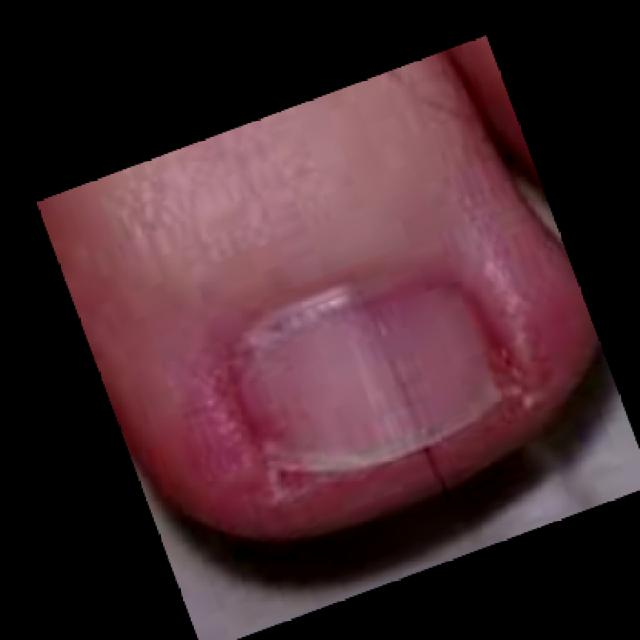Nail: (231, 284, 504, 475)
